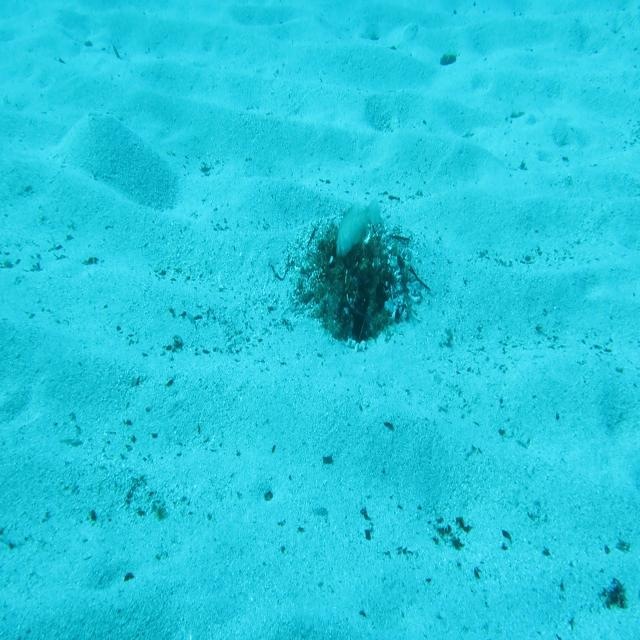NIP_CORE: (336, 194, 382, 260)
nest: (300, 208, 407, 348)
